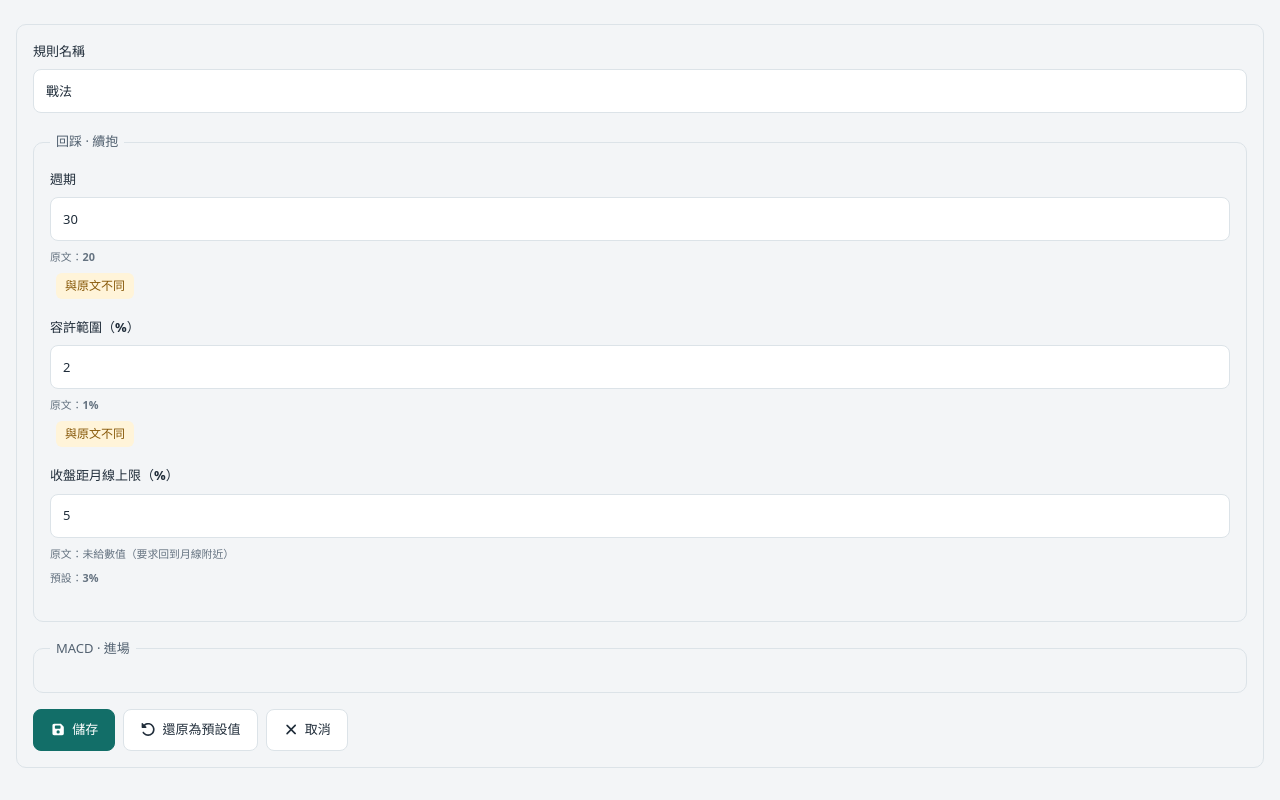
儲存失敗顯示 detail 並保留編輯內容
Click the button "儲存" at (74, 730), box [33, 709, 115, 751]
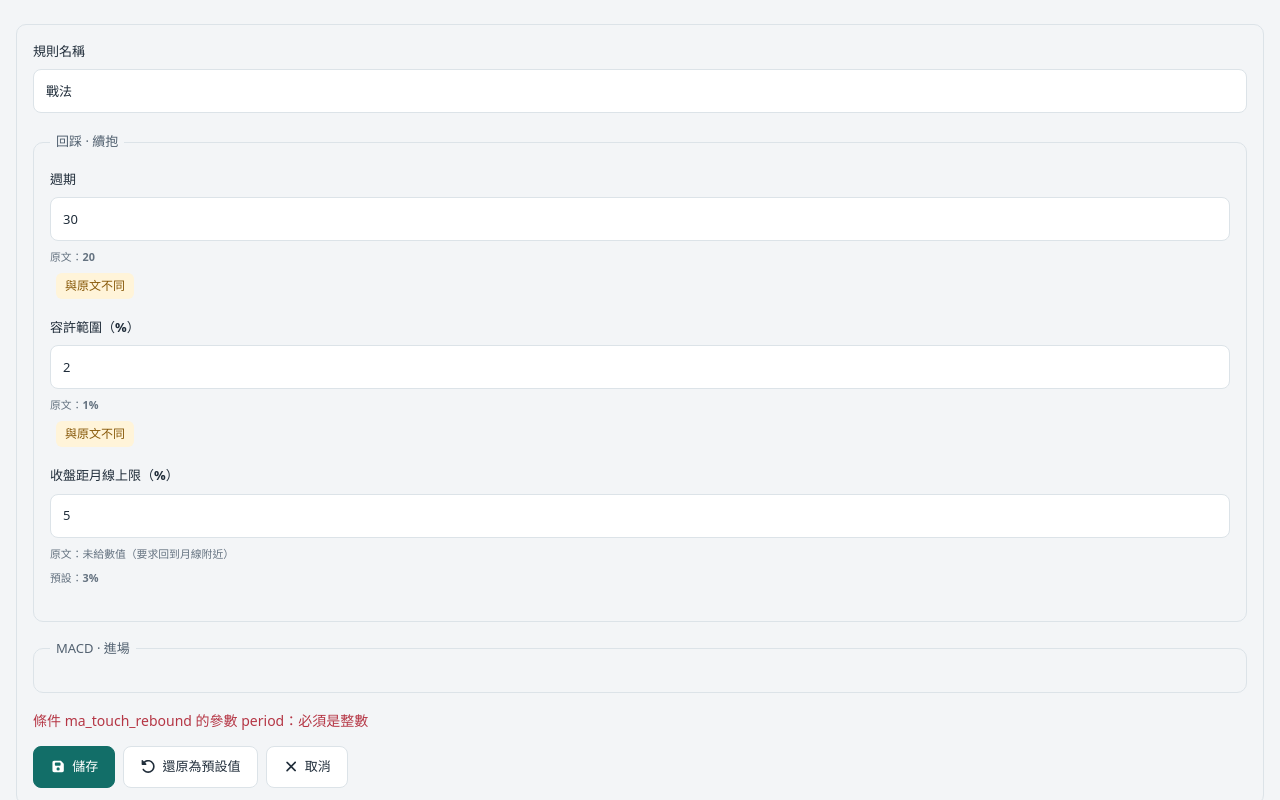
Check: the message shows "period：必須是整數", box [33, 711, 368, 730]
